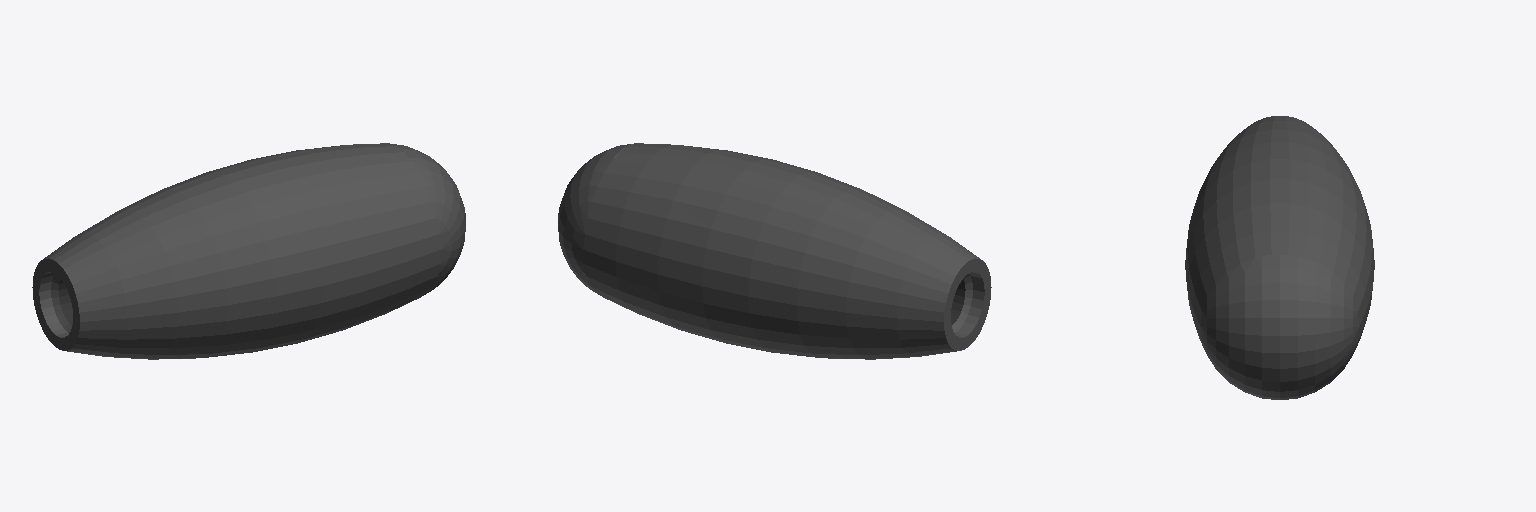
The model's file is ganter_gn_201-14-m5.obj.
3 renders of one model, left to right at view 1: azimuth 30°, elevation 25°; view 2: azimuth 150°, elevation 25°; view 3: azimuth 270°, elevation 25°, orthographic.
Visible parts, largest first — view 1: ganter_gn_201-14-m5_1; view 2: ganter_gn_201-14-m5_1; view 3: ganter_gn_201-14-m5_1.
Boxes of the visible parts, x1,y1,x2,y2 form: ganter_gn_201-14-m5_1: [32, 143, 465, 359]; ganter_gn_201-14-m5_1: [558, 143, 991, 359]; ganter_gn_201-14-m5_1: [1185, 116, 1374, 399].
Size of the model in its own units: 34 by 13.92 by 14.